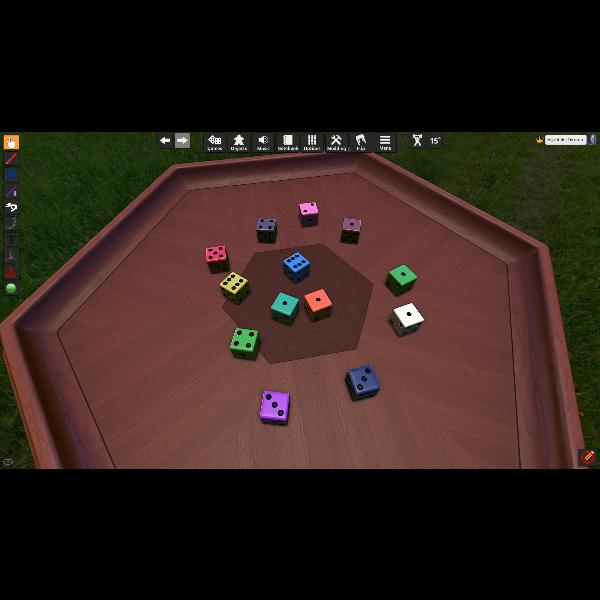d6: (345, 366, 379, 400), (389, 302, 422, 336), (260, 390, 290, 424), (270, 291, 300, 324), (230, 328, 260, 360), (219, 272, 249, 304), (385, 264, 415, 296), (304, 288, 332, 322), (283, 252, 309, 284), (206, 245, 228, 273), (256, 217, 278, 243), (340, 218, 361, 245), (298, 201, 318, 227)
